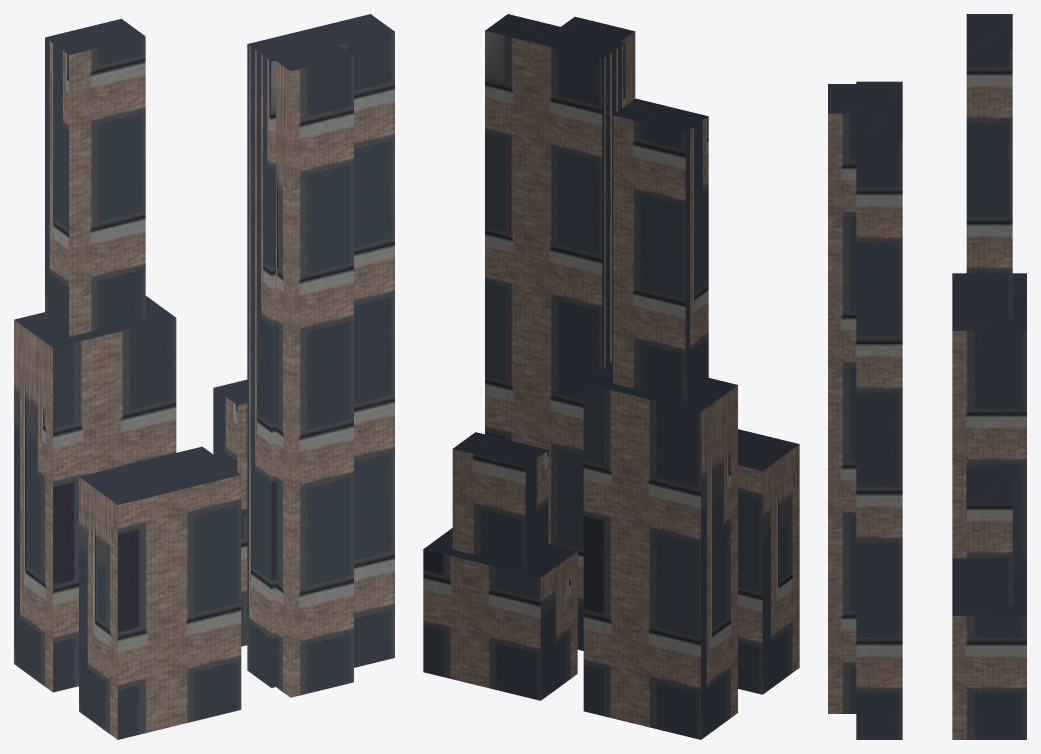
The model's file is city_block_12345_6_28.glb.
3 views of the same model, side by side, from view 1: azimuth 30°, elevation 25°; view 2: azimuth 150°, elevation 25°; view 3: azimuth 270°, elevation 25° (orthographic). The views are drawn at different scales.
Visible parts, largest first — view 1: block_28; view 2: block_28; view 3: block_28.
Part boxes in pixels (bbox=[...]): block_28: bbox=[14, 14, 394, 739]; block_28: bbox=[423, 14, 799, 739]; block_28: bbox=[828, 14, 1026, 739].
Size of the model in its own units: 3.9 by 8 by 2.4.
4 materials, 4 textured.
